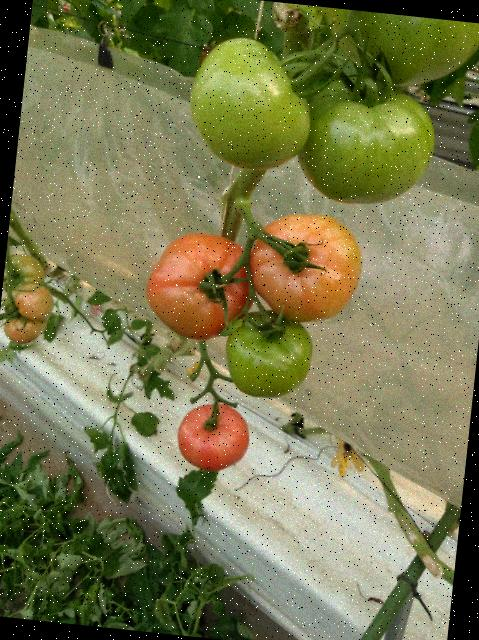b_fully_ripened: (174, 400, 253, 475)
b_green: (292, 71, 441, 212), (183, 32, 320, 176), (313, 7, 479, 95), (221, 305, 316, 402), (1, 253, 46, 298)
b_half_ripened: (243, 208, 367, 328), (141, 227, 263, 346), (0, 281, 55, 347)
